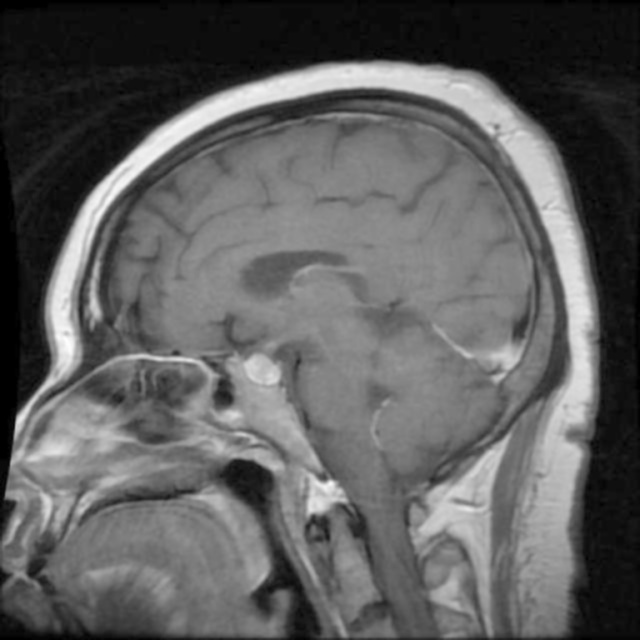no tumor: (242, 342, 290, 398)
